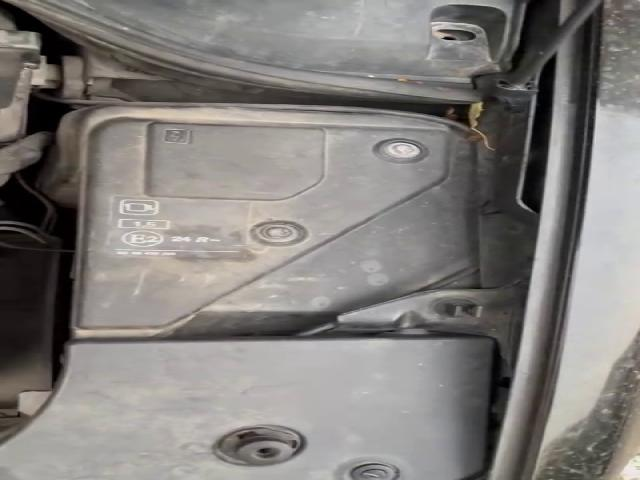fuse_box: (70, 117, 463, 330)
